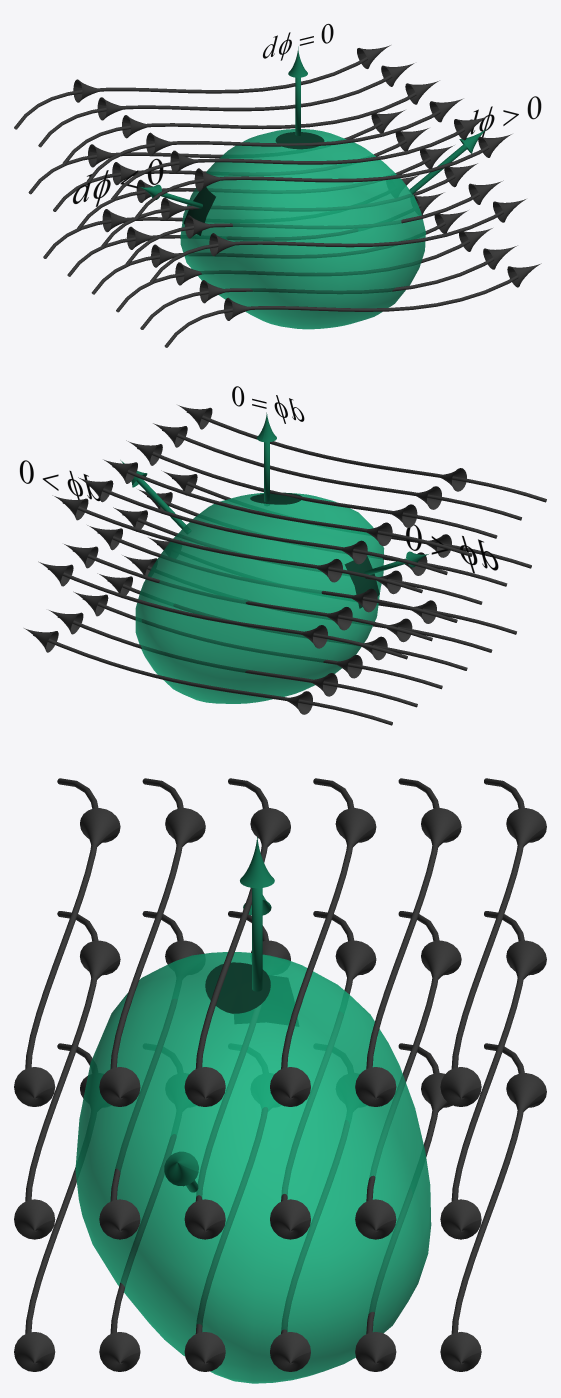
The model's file is 15_Flux analysis on closed surface in electric field.glb.
3 renders of one model, top to bottom at view 1: azimuth 30°, elevation 25°; view 2: azimuth 150°, elevation 25°; view 3: azimuth 270°, elevation 25°, orthographic. The views are drawn at different scales.
Visible parts, largest first — view 1: Sphere, BézierCurve.001, Shape_3_Object 7, Cylinder.001, Cylinder.002, Shape_2_Object 6, Shape_1_Object 5; view 2: Sphere, BézierCurve.001, Cylinder.002, Shape_3_Object 7, Cylinder.001, Shape_2_Object 6, Shape_1_Object 5; view 3: Sphere, BézierCurve.001, Cylinder.002, Cylinder.001.
Boxes of the visible parts, <box> form: Sphere: <box>180,129,425,329</box>; BézierCurve.001: <box>14,45,541,347</box>; Shape_3_Object 7: <box>73,158,163,206</box>; Cylinder.001: <box>409,129,486,194</box>; Cylinder.002: <box>288,46,307,135</box>; Shape_2_Object 6: <box>470,96,541,137</box>; Shape_1_Object 5: <box>263,23,333,60</box>; Sphere: <box>135,492,384,703</box>; BézierCurve.001: <box>24,405,546,725</box>; Cylinder.002: <box>256,412,276,505</box>; Shape_3_Object 7: <box>406,524,498,573</box>; Cylinder.001: <box>120,460,191,534</box>; Shape_2_Object 6: <box>20,460,100,501</box>; Shape_1_Object 5: <box>232,386,304,423</box>; Sphere: <box>75,952,431,1383</box>; BézierCurve.001: <box>14,778,546,1371</box>; Cylinder.002: <box>240,837,274,991</box>; Cylinder.001: <box>164,1151,198,1192</box>.
Bounding box in the file's own units: 5.36 × 3.23 × 2.93.
7 materials, 3 textured.
